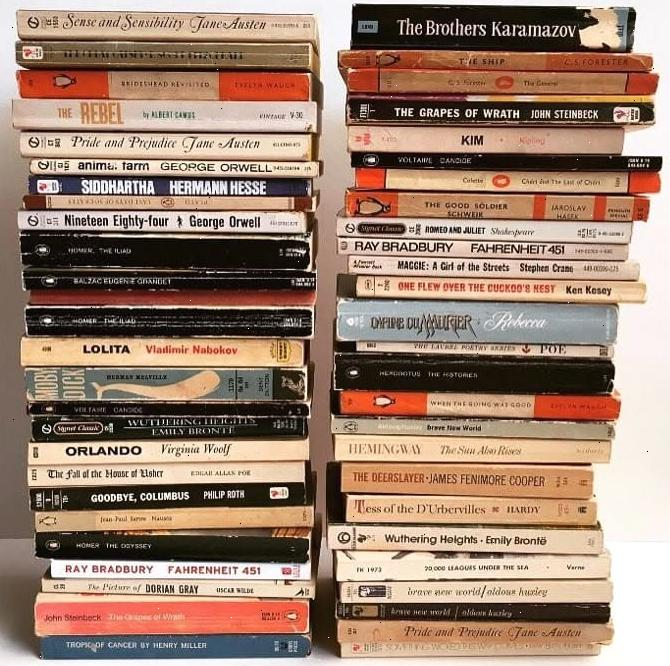book: (332, 298, 623, 344), (347, 3, 632, 49), (329, 355, 617, 392), (26, 366, 313, 401), (329, 520, 606, 556), (330, 460, 603, 496), (330, 548, 609, 583), (22, 236, 314, 269), (36, 598, 314, 632), (27, 336, 318, 368), (22, 99, 322, 130), (16, 11, 313, 42), (348, 126, 654, 156), (339, 66, 655, 95), (26, 306, 317, 337), (23, 71, 320, 101), (344, 192, 650, 221), (332, 493, 606, 525), (33, 482, 312, 512), (29, 436, 316, 465), (32, 506, 317, 535), (336, 217, 642, 244), (21, 41, 322, 68), (324, 436, 614, 464), (20, 131, 319, 158), (334, 619, 615, 647), (348, 168, 656, 193), (339, 49, 657, 73), (337, 577, 615, 604), (23, 209, 315, 234), (326, 415, 616, 440), (346, 102, 658, 125), (340, 276, 637, 300), (30, 415, 312, 440), (25, 288, 316, 312), (31, 462, 317, 486), (29, 400, 312, 424), (338, 258, 640, 280), (39, 574, 312, 598), (26, 157, 320, 179), (345, 152, 656, 172), (22, 194, 317, 213)
